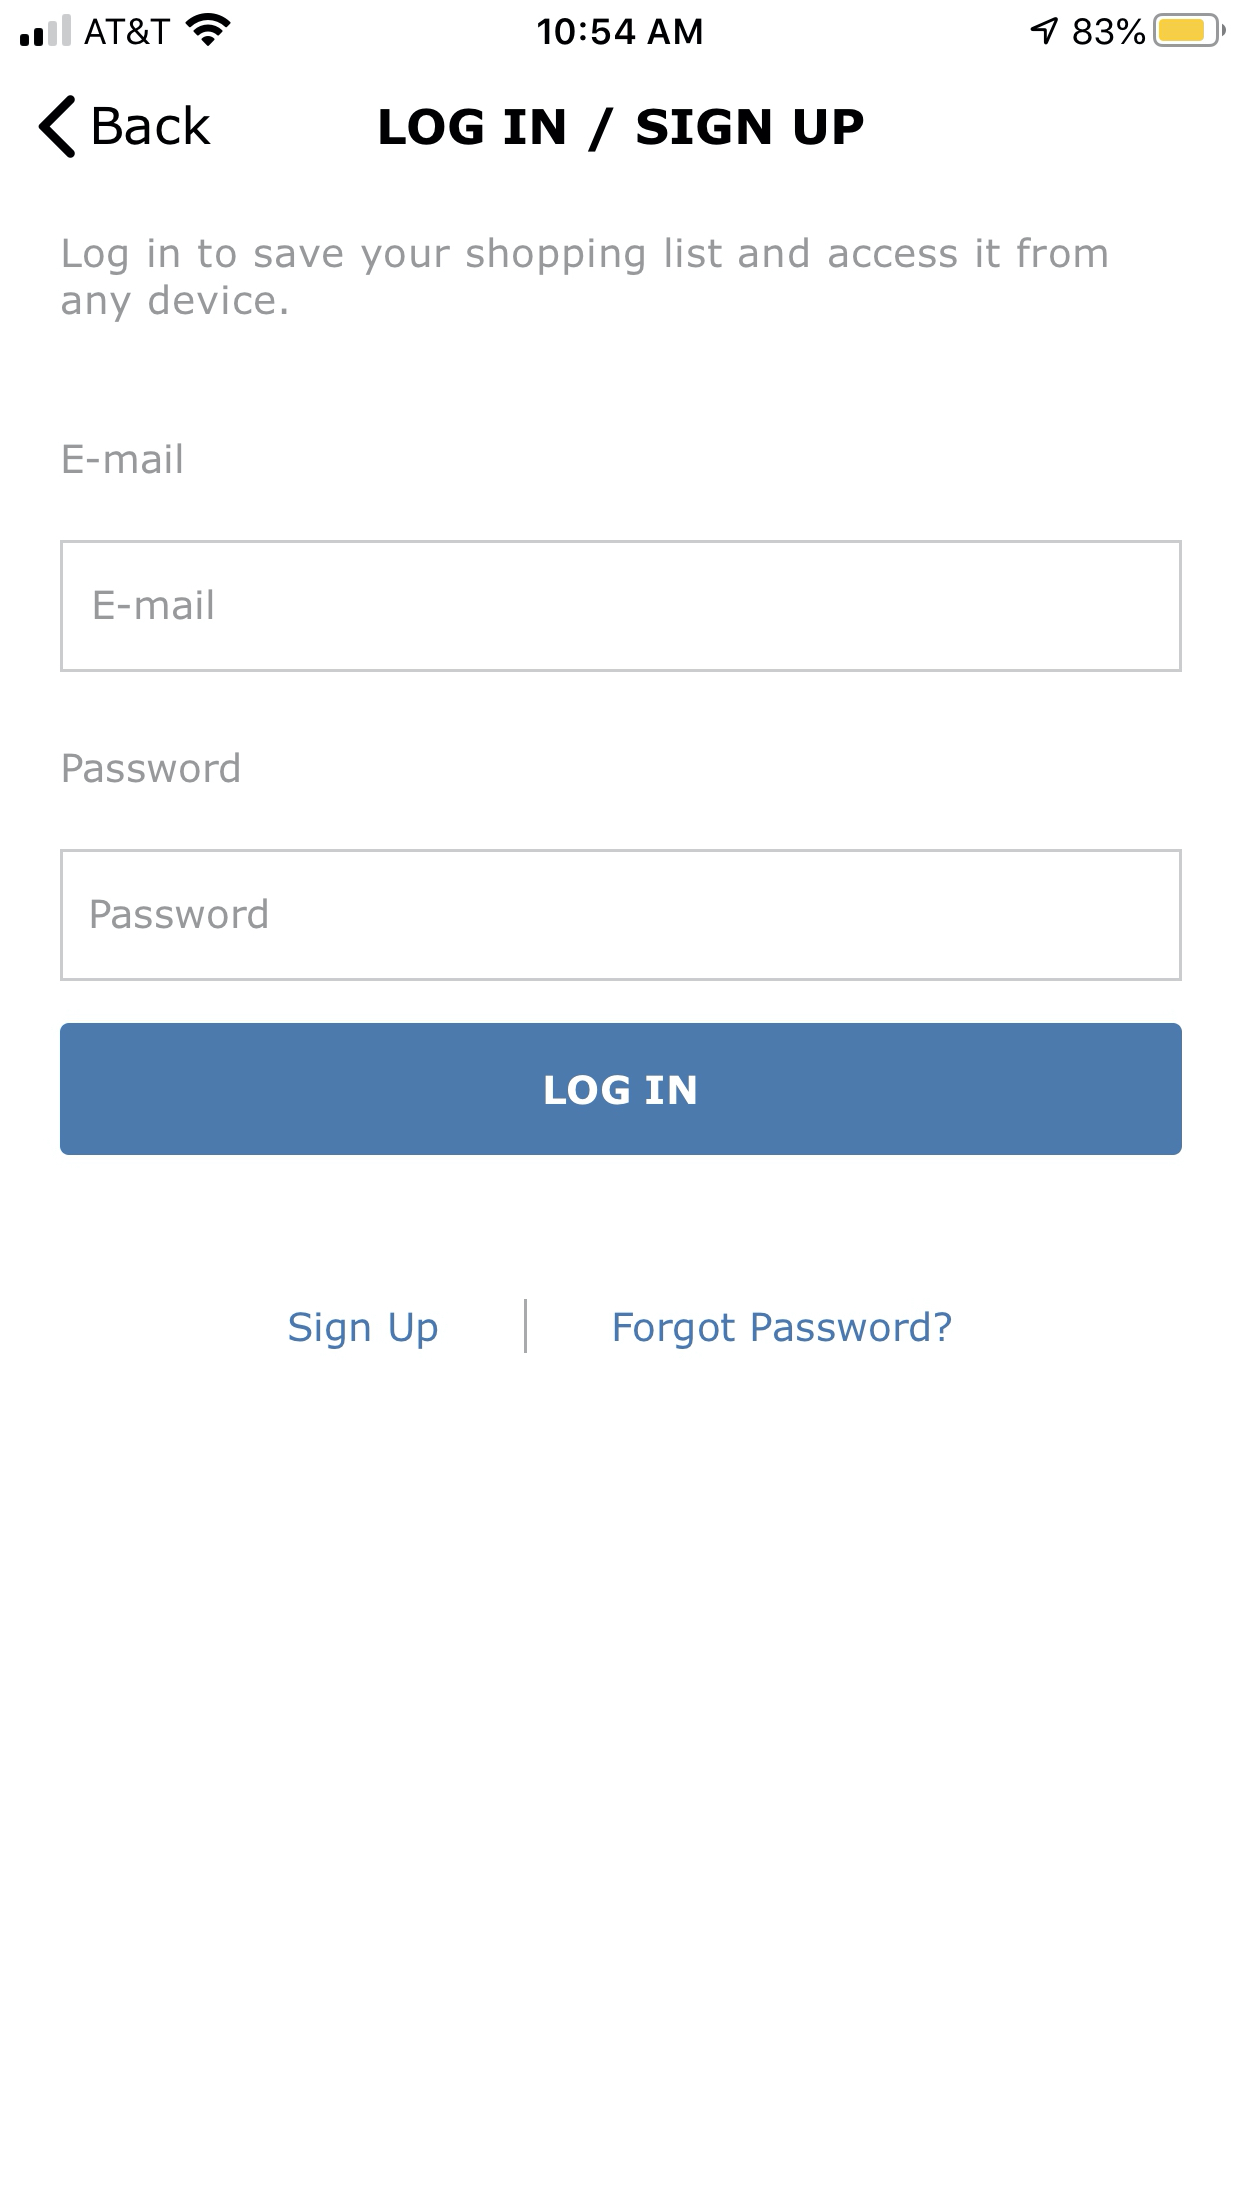EditText: (61, 851, 1181, 983), (61, 541, 1181, 673)
Icon: (39, 96, 76, 159)
Text: (62, 238, 1107, 323), (381, 108, 864, 153), (616, 1310, 952, 1350), (290, 1312, 438, 1350), (93, 899, 268, 930), (64, 754, 240, 784), (96, 106, 212, 146), (96, 590, 214, 622), (64, 444, 183, 475)
TextButton: (61, 1024, 1181, 1156)
UpperTaskBar: (2, 2, 1242, 49)
